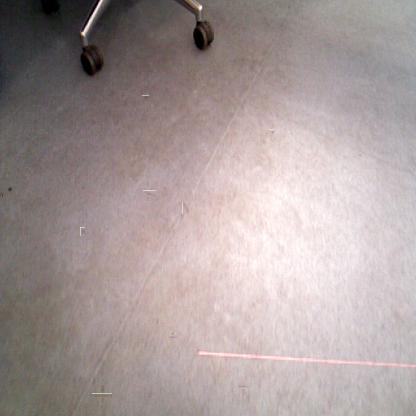mark: (96, 389, 109, 402), (144, 189, 155, 199), (182, 202, 189, 214), (239, 382, 248, 391), (142, 94, 149, 101), (169, 333, 177, 339), (7, 186, 13, 194), (80, 227, 85, 236), (356, 152, 362, 158), (269, 129, 274, 134), (1, 190, 3, 198)
